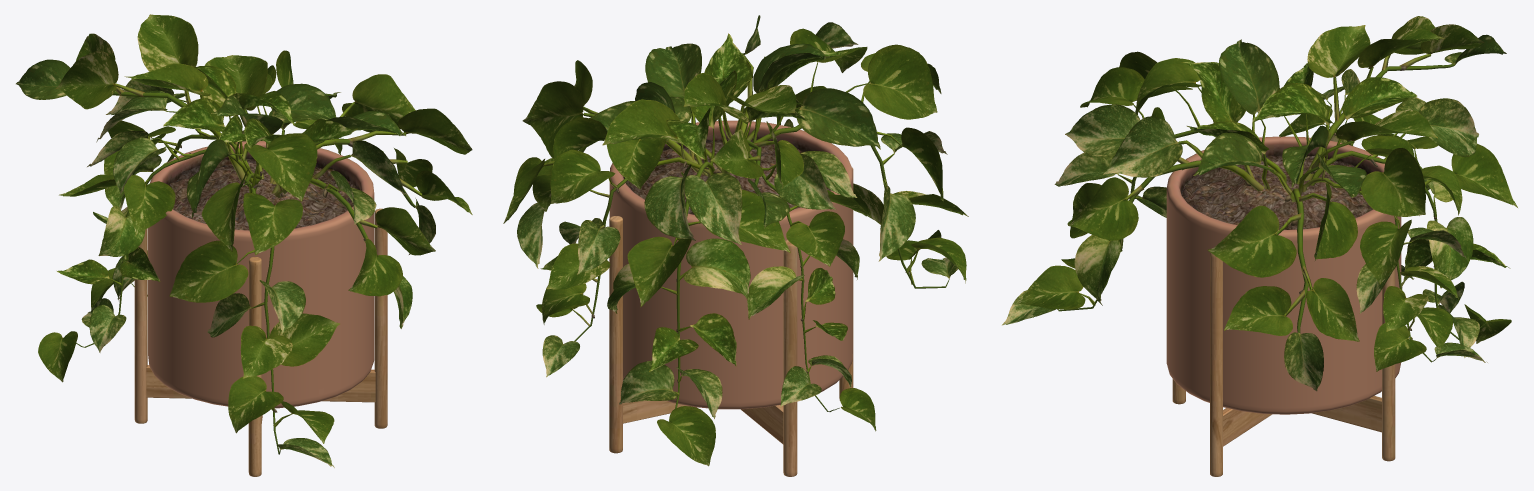
The model's file is Plant2.fbx.
3 views of the same model, side by side, from view 1: azimuth 30°, elevation 25°; view 2: azimuth 150°, elevation 25°; view 3: azimuth 270°, elevation 25° (orthographic). The views are drawn at different scales.
Visible parts, largest first — view 1: Plant2; view 2: Plant2; view 3: Plant2.
Part boxes in pixels (bbox=[...]): Plant2: bbox=[16, 14, 472, 476]; Plant2: bbox=[503, 15, 968, 476]; Plant2: bbox=[1002, 16, 1517, 476].
Size of the model in its own units: 60.16 by 57.62 by 70.9.
Materials: 2 (2 with a texture image).
